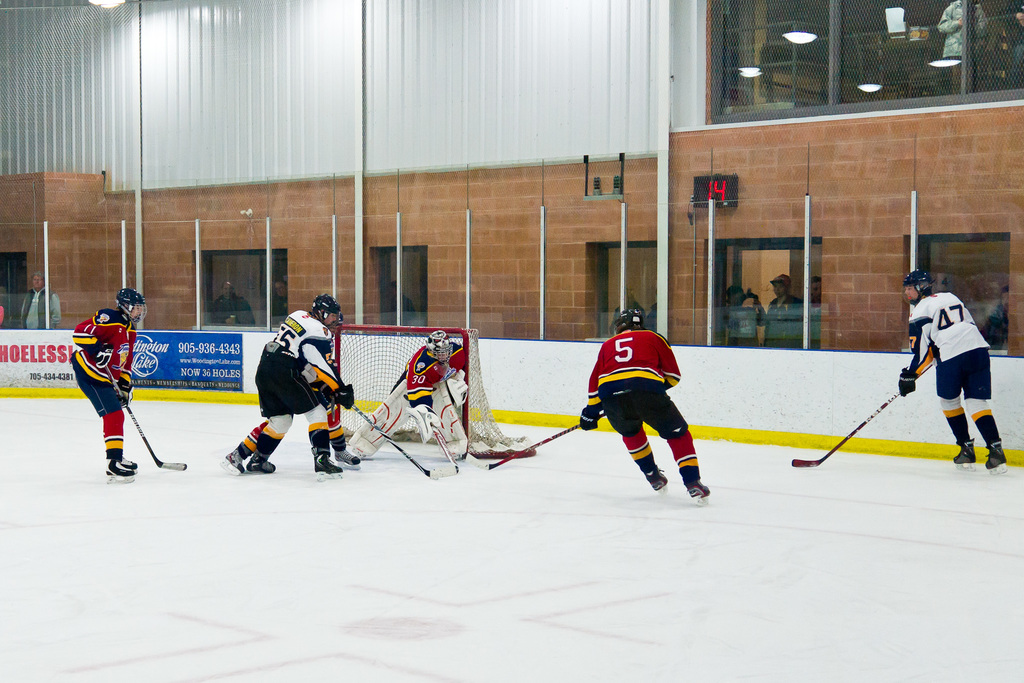Person: (575, 308, 699, 515), (216, 310, 365, 482), (897, 262, 999, 491), (240, 291, 344, 485), (342, 328, 467, 465), (65, 284, 141, 481), (765, 270, 811, 346), (717, 285, 767, 344), (16, 270, 64, 326), (806, 275, 821, 344)
